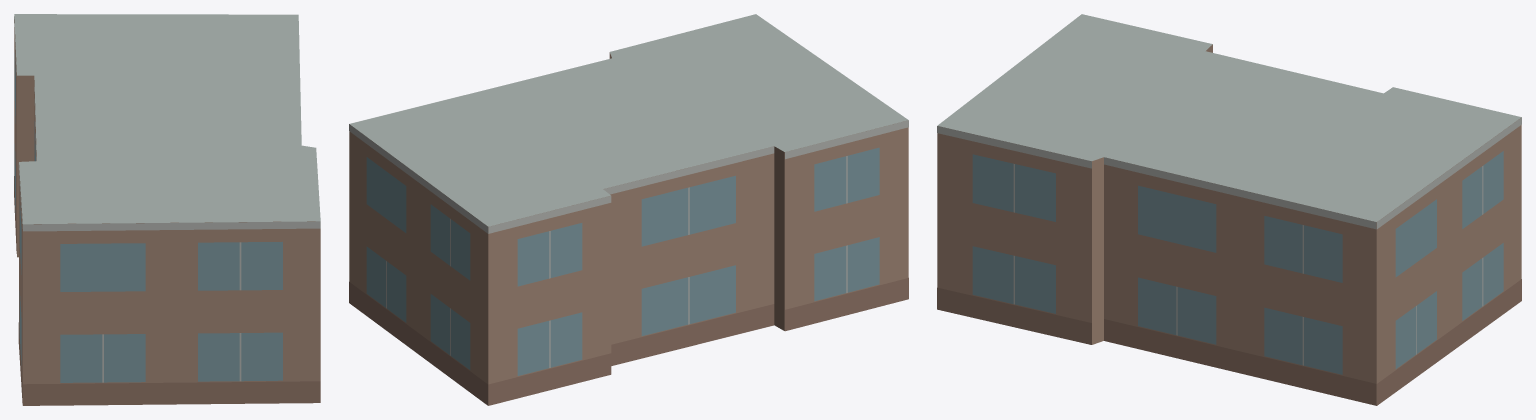
The model's file is survey-upis-32705799.glb.
3 views of the same model, side by side, from view 1: azimuth 30°, elevation 25°; view 2: azimuth 150°, elevation 25°; view 3: azimuth 270°, elevation 25° (orthographic). The views are drawn at different scales.
Visible parts, largest first — view 1: survey-upis-32705799.tmp; view 2: survey-upis-32705799.tmp; view 3: survey-upis-32705799.tmp.
Boxes of the visible parts, x1,y1,x2,y2 form: survey-upis-32705799.tmp: (14, 14, 320, 405); survey-upis-32705799.tmp: (349, 14, 908, 405); survey-upis-32705799.tmp: (937, 14, 1521, 405).
Size of the model in its own units: 14.83 by 6.1 by 17.6.
